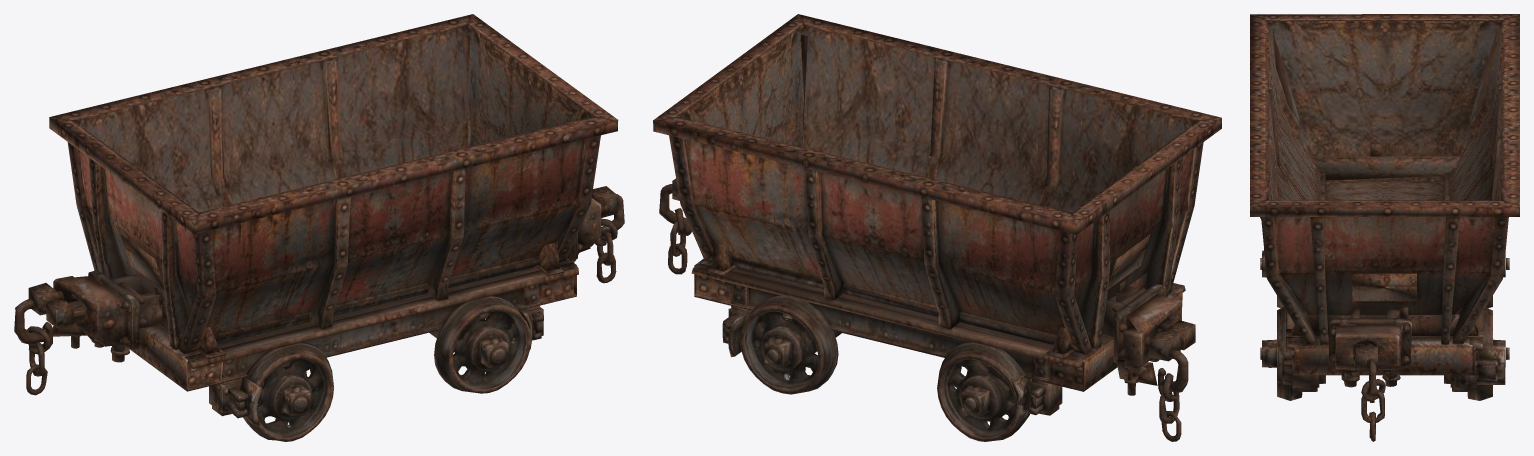
The model's file is reactor-mine-cart.glb.
3 views of the same model, side by side, from view 1: azimuth 30°, elevation 25°; view 2: azimuth 150°, elevation 25°; view 3: azimuth 270°, elevation 25° (orthographic). The views are drawn at different scales.
Parts seen in each view (by area): view 1: reactor-mine-cart; view 2: reactor-mine-cart; view 3: reactor-mine-cart.
Part boxes in pixels (x1,y1,x2,y2): reactor-mine-cart: (14,14,624,441); reactor-mine-cart: (653,14,1221,441); reactor-mine-cart: (1250,14,1519,441).
Bounding box in the file's own units: 1.8 × 0.7833 × 0.7944.
1 material, 1 textured.
